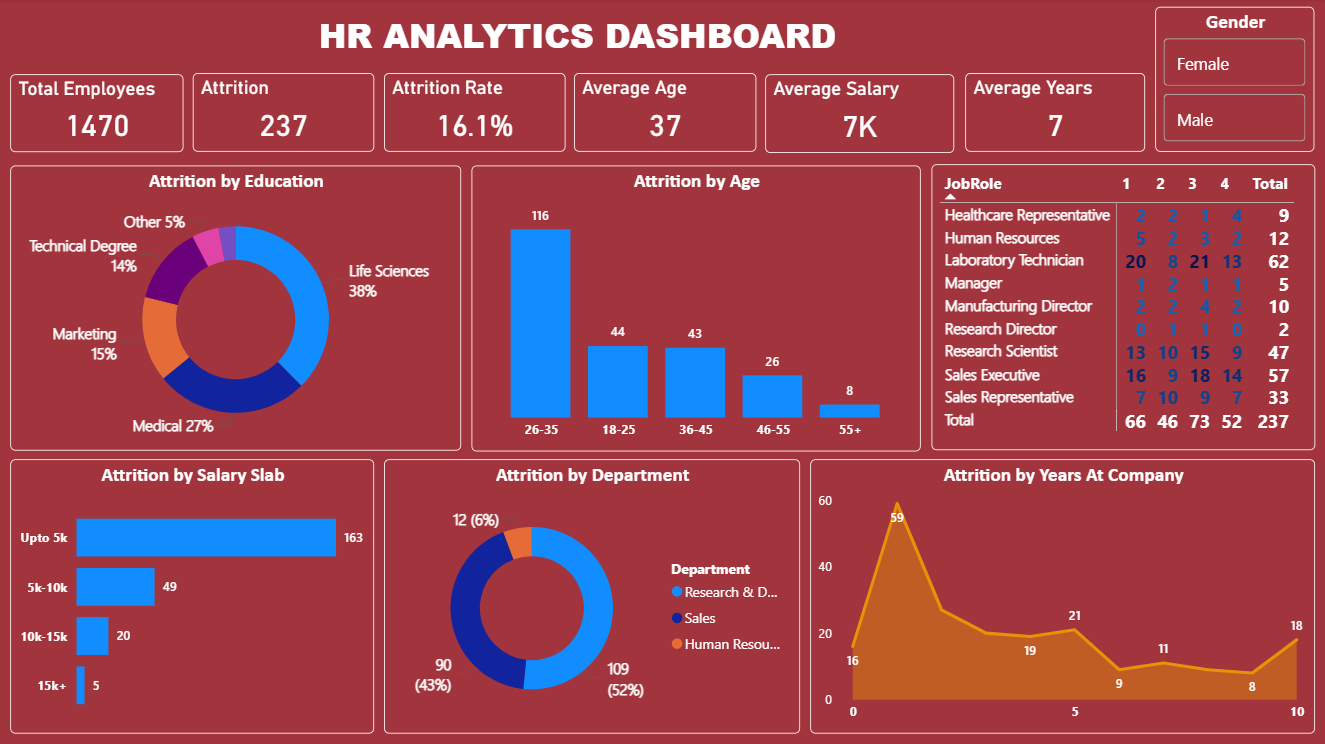

The page's visual inventory and layout, read from the dashboard file:
{"tool":"powerbi","page":{"name":"Page 1","canvas":[1280,720],"ordinal":0},"visuals":[{"type":"card","title":"Total Employees","fields":{"Values":["CountNonNull(HR_Analytics.EmpID)"]},"box":[11.2,73.8,167.5,75],"z":0},{"type":"card","title":"Attrition","fields":{"Values":["Sum(HR_Analytics.Attrition_count)"]},"box":[187.5,72.5,175,76.2],"z":1000},{"type":"card","title":"Attrition Rate","fields":{"Values":["HR_Analytics.AttritionRate"]},"box":[371.2,72.5,175,76.2],"z":2000},{"type":"card","title":"Average Age","fields":{"Values":["Avg(HR_Analytics.Age)"]},"box":[555,72.5,176.2,76.2],"z":3000},{"type":"card","title":"Average Salary","fields":{"Values":["Avg(HR_Analytics.MonthlyIncome)"]},"box":[740,73.8,182.5,76.2],"z":4000},{"type":"card","title":"Average Years","fields":{"Values":["Avg(HR_Analytics.YearsAtCompany)"]},"box":[932.5,72.5,173.8,76.2],"z":5000},{"type":"donutChart","title":"Attrition by Education","fields":{"Category":["HR_Analytics.EducationField"],"Y":["Sum(HR_Analytics.Attrition_count)"]},"box":[11.2,161.2,435,275],"z":6000},{"type":"columnChart","title":"Attrition by Age","fields":{"Category":["HR_Analytics.AgeGroup"],"Y":["Sum(HR_Analytics.Attrition_count)"]},"box":[456.2,161.2,433.8,276.2],"z":7000},{"type":"pivotTable","fields":{"Rows":["HR_Analytics.JobRole"],"Columns":["HR_Analytics.JobSatisfaction"],"Values":["Sum(HR_Analytics.Attrition_count)"]},"box":[900,160,370,276.2],"z":8000},{"type":"barChart","title":"Attrition by Salary Slab","fields":{"Category":["HR_Analytics.SalarySlab"],"Y":["Sum(HR_Analytics.Attrition_count)"]},"box":[11.2,445,351.2,265],"z":9000},{"type":"pieChart","title":"Attrition by Department","fields":{"Category":["HR_Analytics.Department"],"Y":["Sum(HR_Analytics.Attrition_count)"]},"box":[371.2,445,401.2,265],"z":9001},{"type":"areaChart","title":"Attrition by Years At Company","fields":{"Y":["Sum(HR_Analytics.Attrition_count)"],"Category":["HR_Analytics.YearsAtCompany"]},"box":[782.5,445,487.5,265],"z":9002},{"type":"advancedSlicerVisual","fields":{"Values":["HR_Analytics.Gender"]},"box":[1116.2,8.8,153.8,140],"z":9003},{"type":"textbox","box":[11.2,8.8,1095,55],"z":9004}]}

Visuals, with their boxes in screenshot pixels (x1, y1, x2, y2), scaled from the page's 1280x720 canvas onto the 1325x744 screenshot:
"Total Employees" card: x1=12, y1=76, x2=185, y2=154
"Attrition" card: x1=194, y1=75, x2=375, y2=154
"Attrition Rate" card: x1=384, y1=75, x2=565, y2=154
"Average Age" card: x1=575, y1=75, x2=757, y2=154
"Average Salary" card: x1=766, y1=76, x2=955, y2=155
"Average Years" card: x1=965, y1=75, x2=1145, y2=154
"Attrition by Education" donutChart: x1=12, y1=167, x2=462, y2=451
"Attrition by Age" columnChart: x1=472, y1=167, x2=921, y2=452
pivotTable - HR_Analytics.JobRole x HR_Analytics.JobSatisfaction: x1=932, y1=165, x2=1315, y2=451
"Attrition by Salary Slab" barChart: x1=12, y1=460, x2=375, y2=734
"Attrition by Department" pieChart: x1=384, y1=460, x2=800, y2=734
"Attrition by Years At Company" areaChart: x1=810, y1=460, x2=1315, y2=734
advancedSlicerVisual - HR_Analytics.Gender: x1=1155, y1=9, x2=1315, y2=154
textbox: x1=12, y1=9, x2=1145, y2=66
